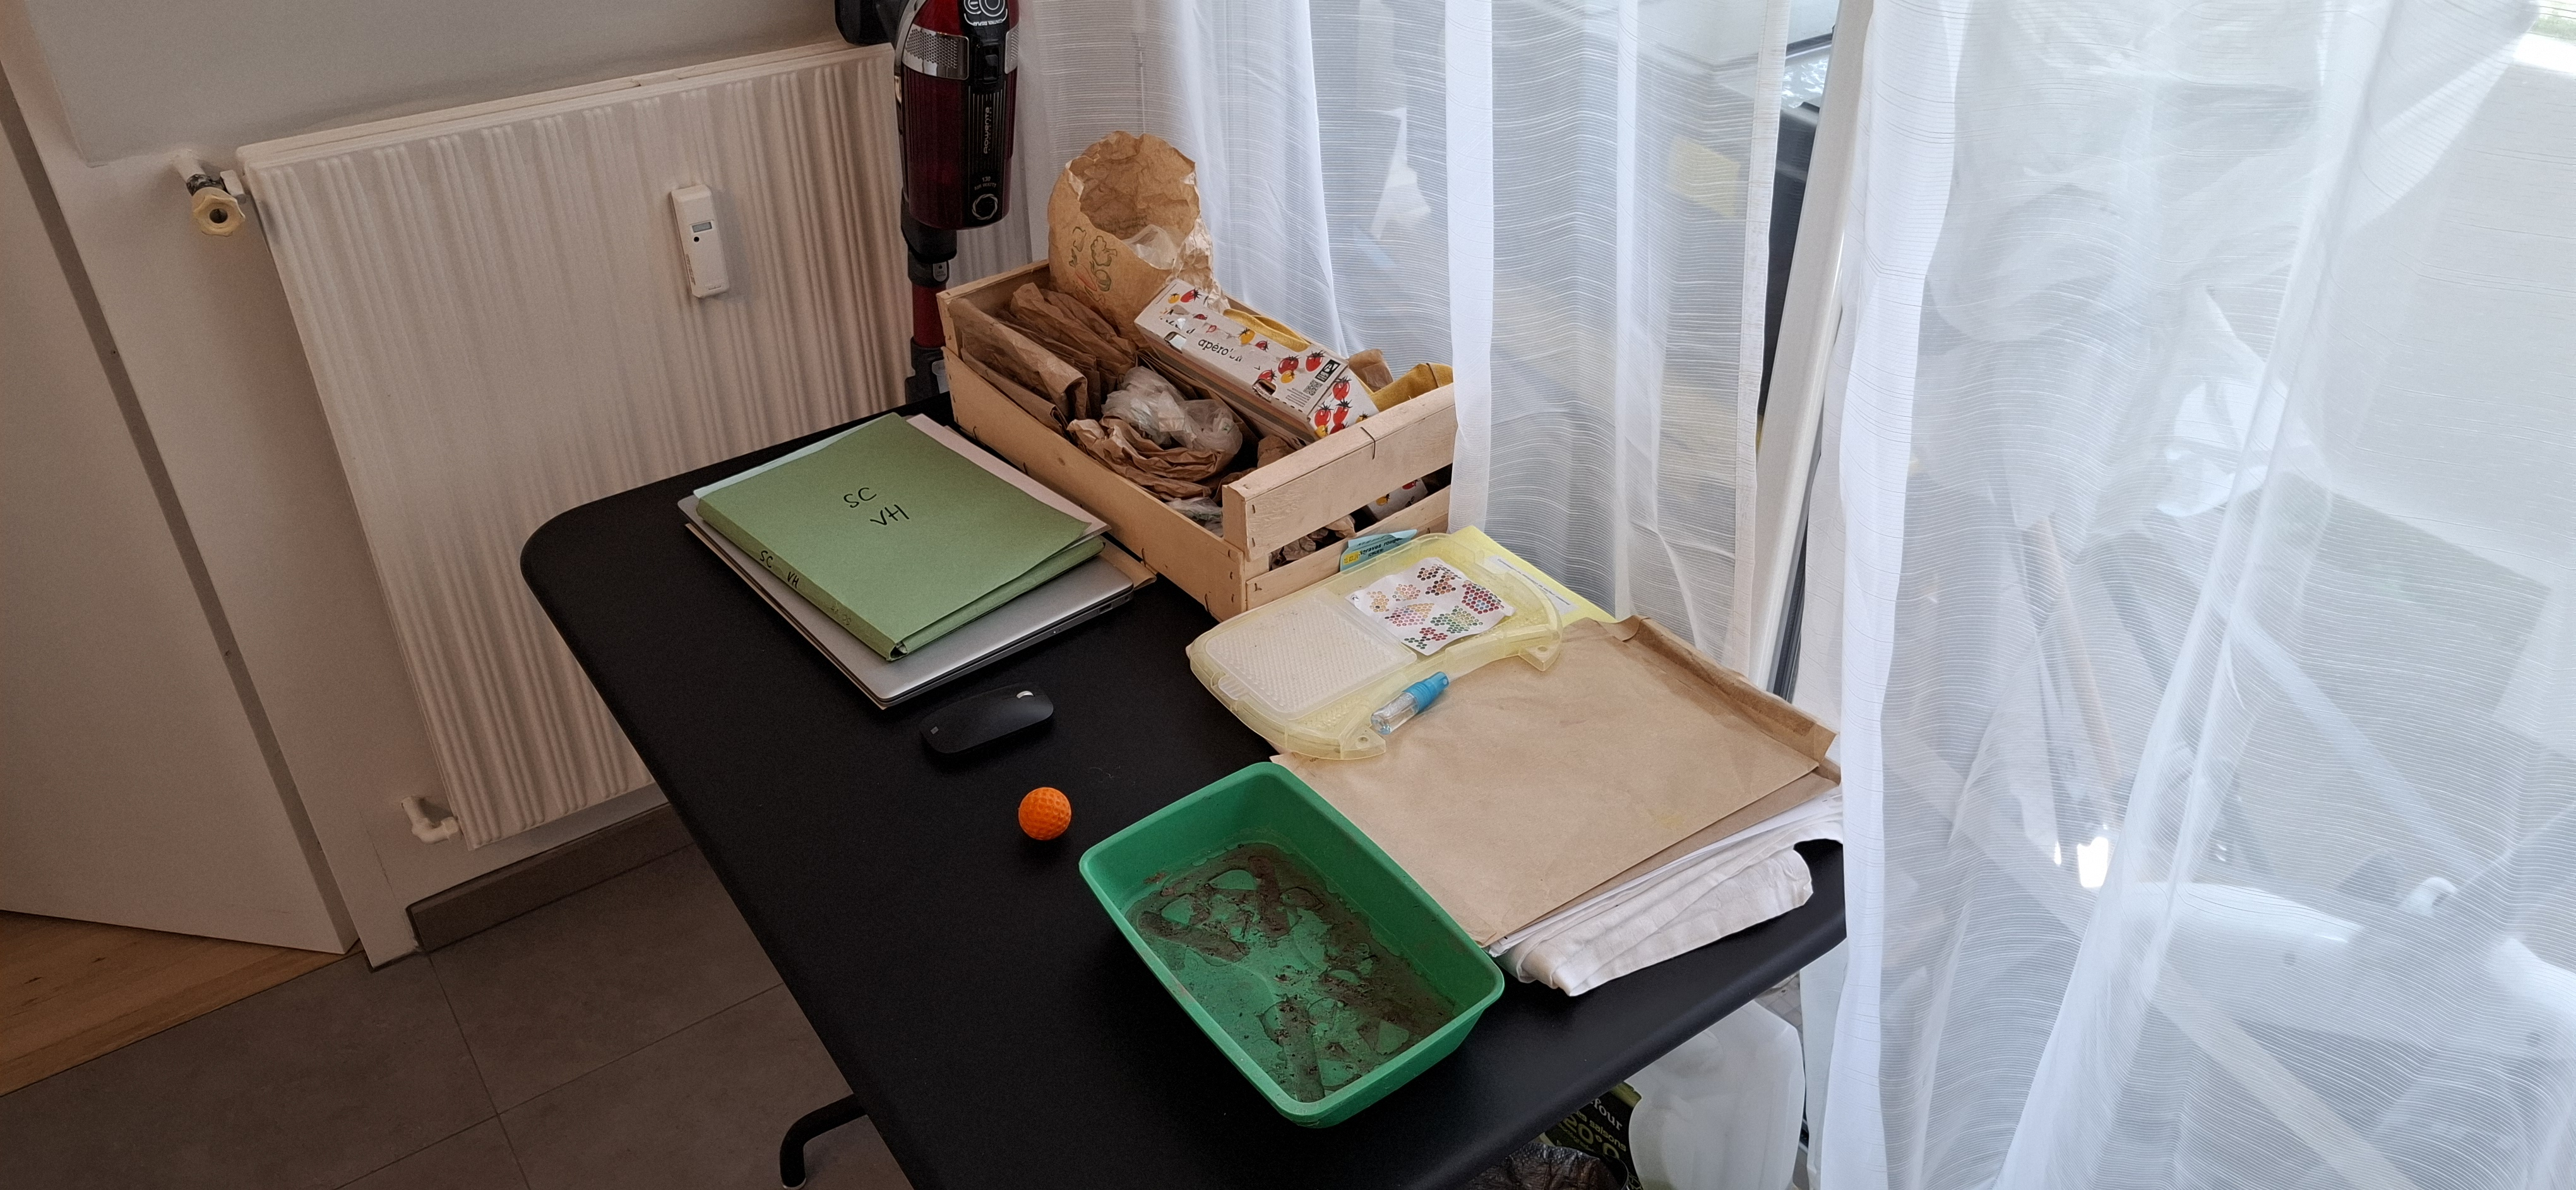ball: (1019, 787, 1074, 840)
